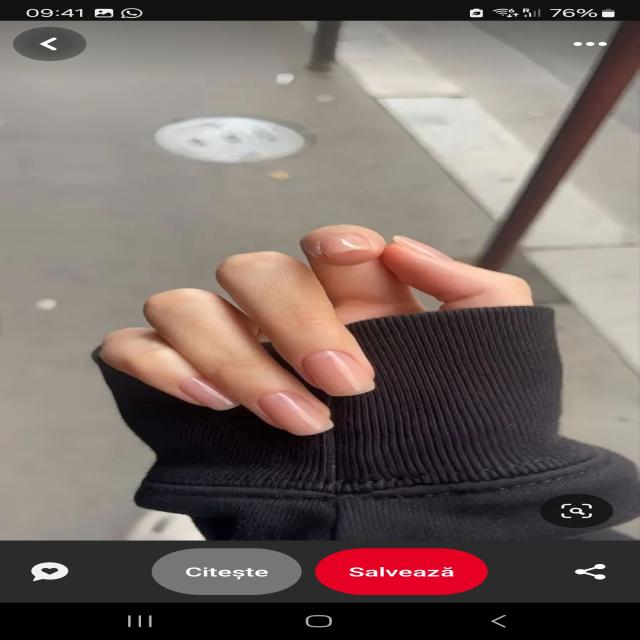hands: (44, 136, 606, 492)
